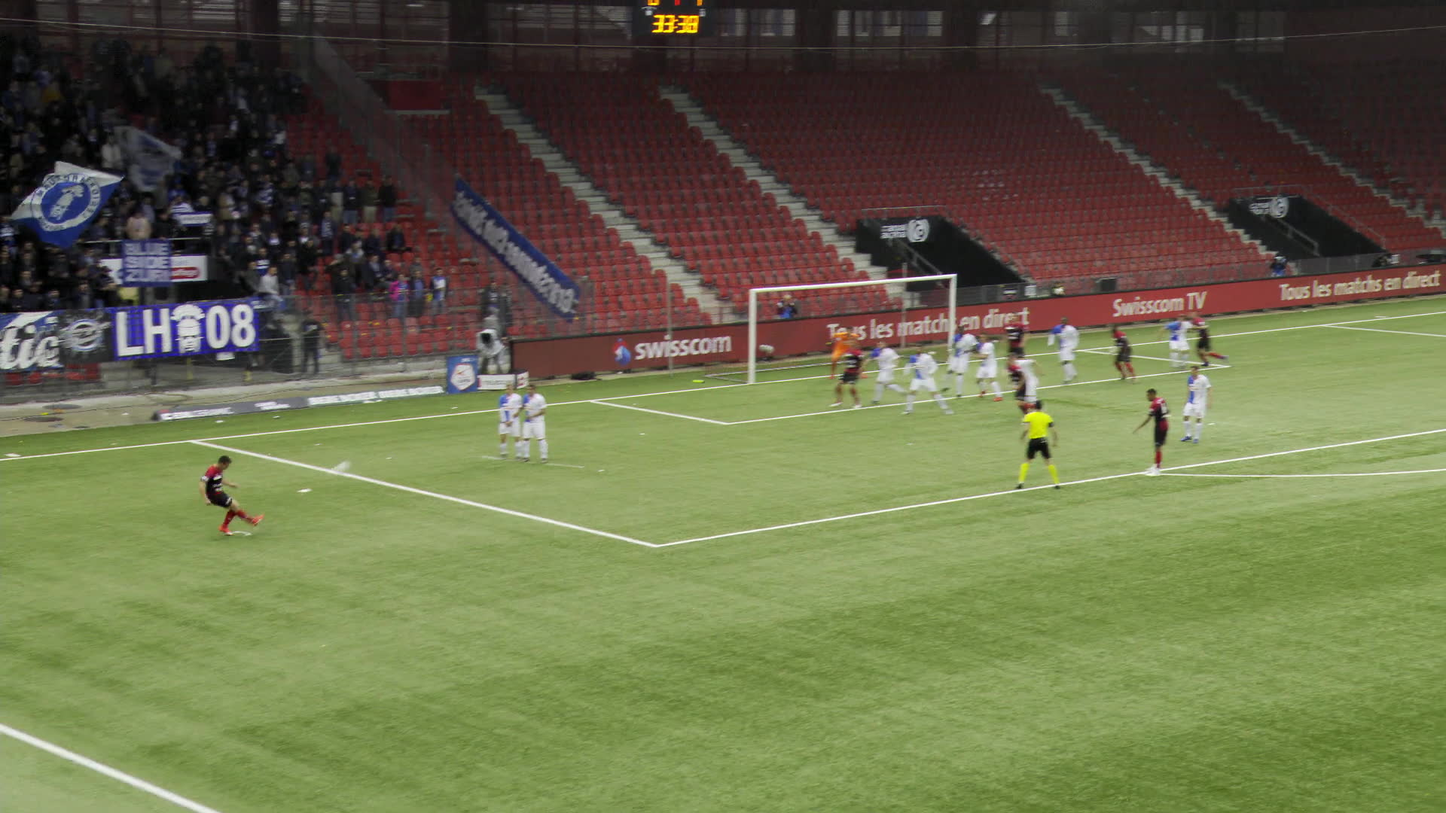ball: (303, 474, 327, 493)
player: (201, 452, 266, 535), (906, 343, 959, 415), (1137, 385, 1176, 476), (870, 339, 918, 406), (1007, 353, 1050, 423), (948, 320, 987, 397), (1183, 362, 1219, 443), (520, 382, 555, 463), (1194, 308, 1240, 367), (836, 338, 874, 408), (1165, 313, 1209, 373), (1009, 349, 1050, 413), (1054, 315, 1091, 384), (831, 325, 873, 379), (977, 329, 1008, 401), (1005, 309, 1037, 378), (502, 380, 528, 460), (1113, 321, 1145, 382)
referee: (1020, 397, 1066, 489)
